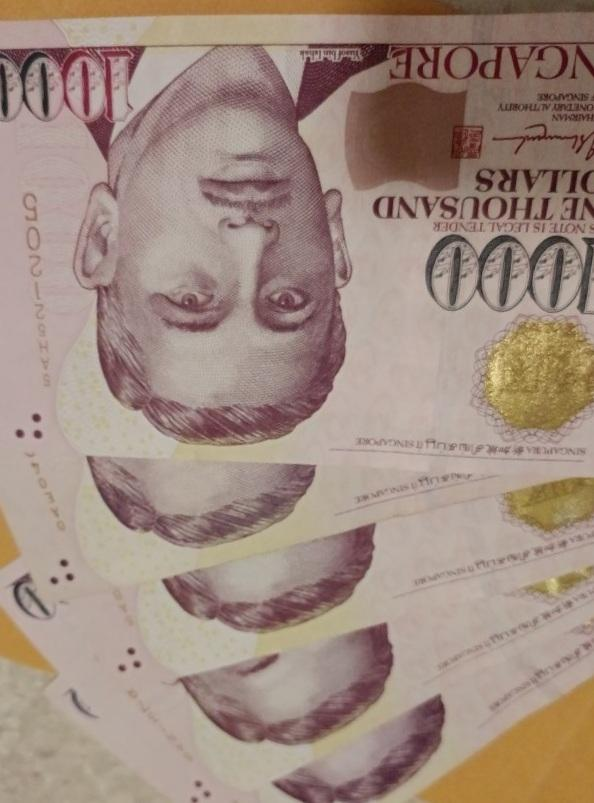1000SingaporeDollar: (0, 27, 594, 450)
